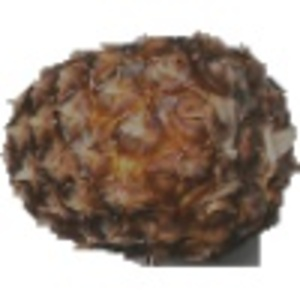abacaxi: (3, 29, 297, 253)
